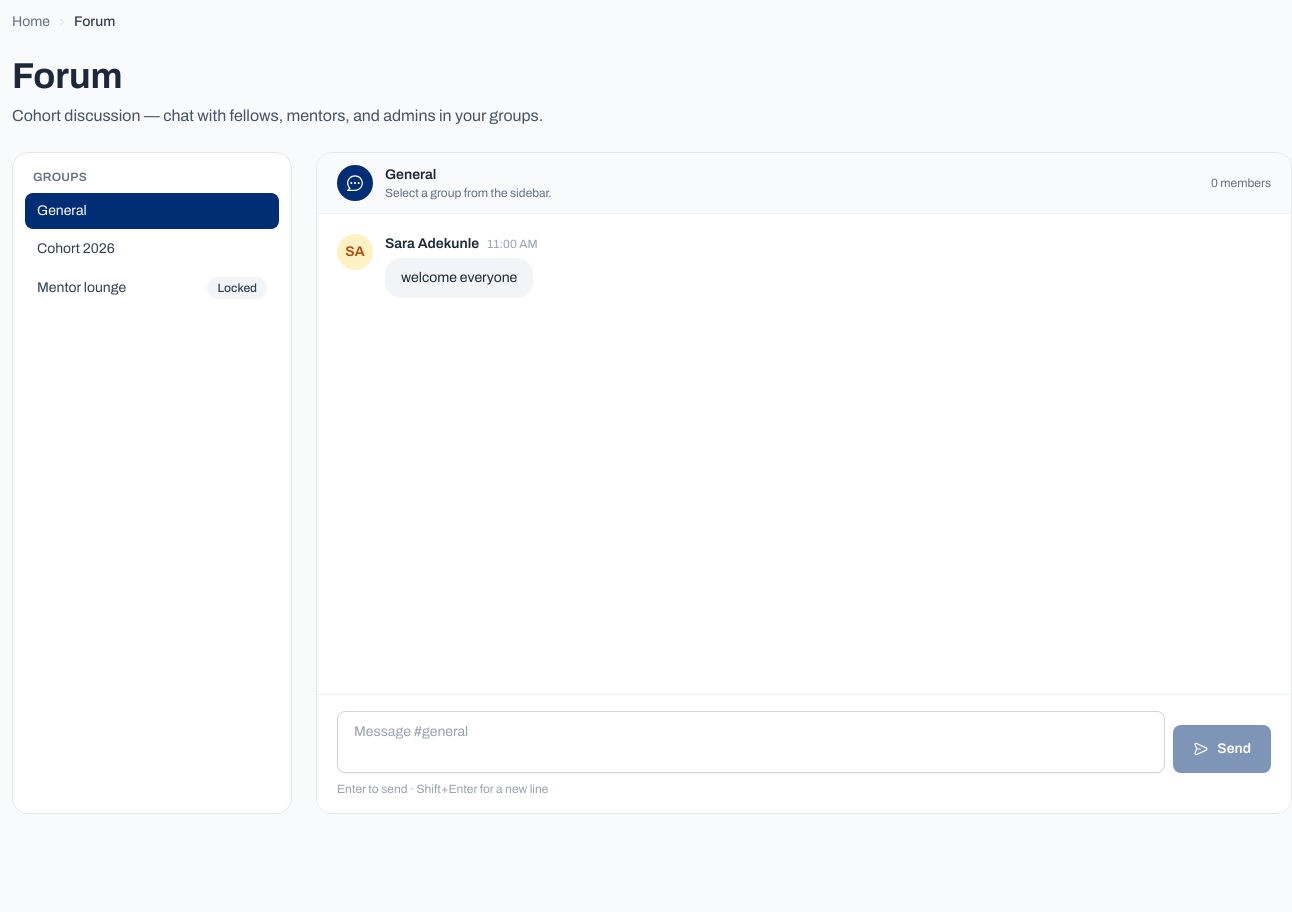
Test: ForumChat › re-fetches when the user switches groups
Expected: the text "welcome everyone" is shown, top-left (385, 258), bottom-right (533, 298)
Click the button "Cohort 2026": {"x": 152, "y": 249} top-left (25, 231), bottom-right (279, 267)
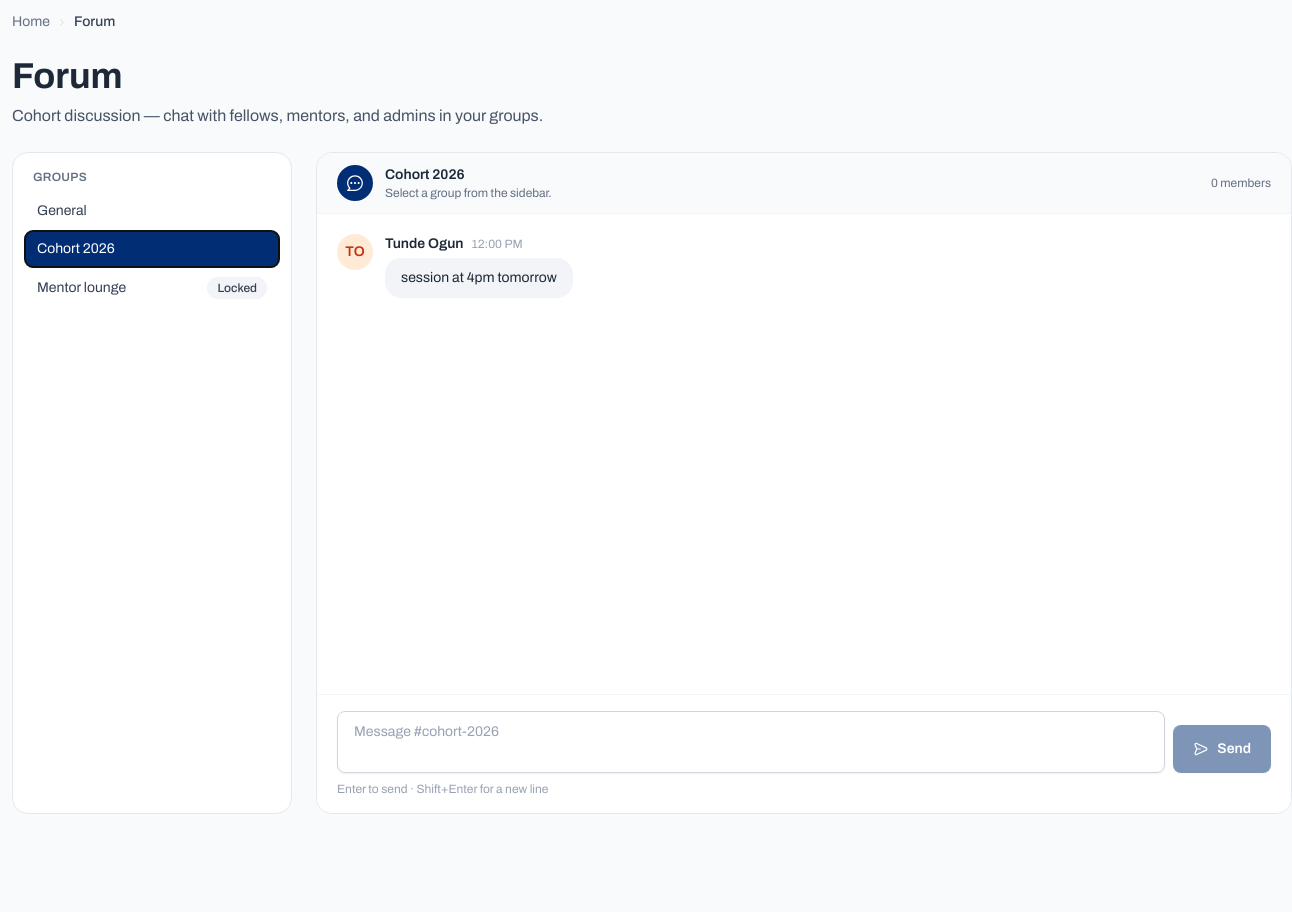
Expected: the text "session at 4pm tomorrow" is shown, top-left (385, 258), bottom-right (573, 298)
